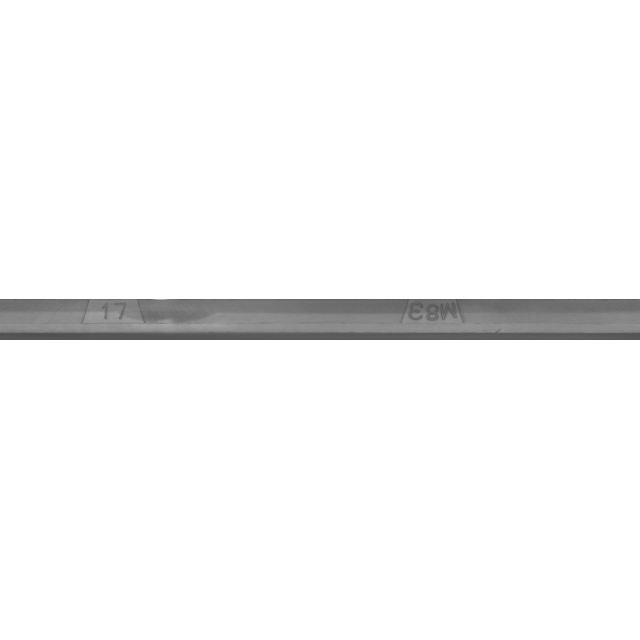mohao: (328, 270, 528, 370)
xuehao: (18, 270, 218, 370)
